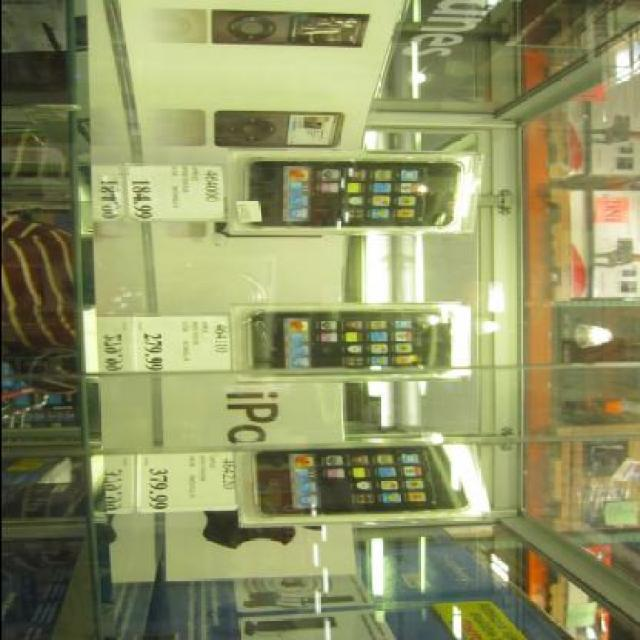phone: (251, 443, 473, 520), (242, 159, 466, 233), (248, 309, 460, 377), (250, 616, 334, 633)
